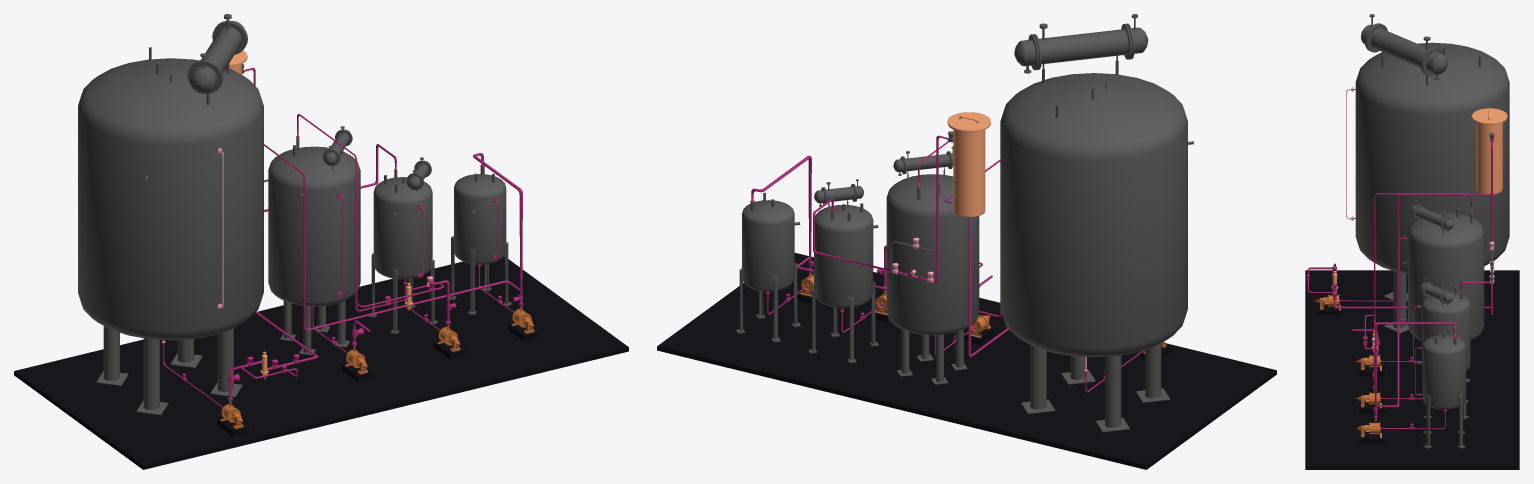
File: cadison.fbx
3 views of the same model, side by side, from view 1: azimuth 30°, elevation 25°; view 2: azimuth 150°, elevation 25°; view 3: azimuth 270°, elevation 25° (orthographic). The views are drawn at different scales.
Visible parts, largest first — view 1: Cube, Cylinder, Cylinder.017, Cylinder.034, Cylinder.035, Cylinder.005, Cylinder.002, Circle.002, Cylinder.003, Cylinder.004, Circle.004, Cylinder.107 (+1 smaller); view 2: Cylinder, Cube, Cylinder.017, Cylinder.034, Cylinder.035, Cylinder.005, Cylinder.098, Cylinder.107, Cylinder.004, Cylinder.001, Cylinder.002, Cylinder.022 (+2 smaller); view 3: Cube, Cylinder, Cylinder.017, Cylinder.035, Cylinder.005, Cylinder.098, Cylinder.034, Circle.002, Cylinder.003, Cylinder.107, Circle.004, Cylinder.022 (+6 smaller).
Part boxes in pixels (bbox=[...]): Cube: bbox=[14, 256, 628, 469]; Cylinder: bbox=[78, 58, 263, 340]; Cylinder.017: bbox=[268, 146, 360, 306]; Cylinder.034: bbox=[373, 177, 432, 279]; Cylinder.035: bbox=[454, 174, 506, 264]; Cylinder.005: bbox=[187, 14, 247, 93]; Cylinder.002: bbox=[136, 338, 168, 414]; Circle.002: bbox=[264, 144, 519, 330]; Cylinder.003: bbox=[210, 328, 242, 396]; Cylinder.004: bbox=[96, 326, 128, 385]; Circle.004: bbox=[296, 114, 449, 325]; Cylinder.107: bbox=[229, 67, 397, 402]; Cylinder: bbox=[1000, 73, 1187, 357]; Cube: bbox=[657, 253, 1276, 469]; Cylinder.017: bbox=[886, 174, 979, 335]; Cylinder.034: bbox=[814, 205, 873, 307]; Cylinder.035: bbox=[742, 200, 794, 291]; Cylinder.005: bbox=[1014, 14, 1148, 73]; Cylinder.098: bbox=[947, 112, 990, 217]; Cylinder.107: bbox=[813, 135, 1008, 357]; Cylinder.004: bbox=[1095, 355, 1129, 432]; Cylinder.001: bbox=[1021, 345, 1055, 413]; Cylinder.002: bbox=[1136, 343, 1170, 402]; Cylinder.022: bbox=[893, 146, 953, 175]; Cube: bbox=[1305, 270, 1519, 469]; Cylinder: bbox=[1355, 42, 1509, 273]; Cylinder.017: bbox=[1408, 212, 1484, 340]; Cylinder.035: bbox=[1422, 334, 1465, 409]; Cylinder.005: bbox=[1361, 14, 1447, 80]; Cylinder.098: bbox=[1471, 108, 1507, 194]; Cylinder.034: bbox=[1422, 292, 1470, 370]; Circle.002: bbox=[1376, 193, 1490, 407]; Cylinder.003: bbox=[1383, 271, 1409, 333]; Cylinder.107: bbox=[1333, 140, 1493, 315]; Circle.004: bbox=[1373, 193, 1472, 390]; Cylinder.022: bbox=[1410, 200, 1453, 232].
Size of the model in its own units: 414 by 295 by 191.
